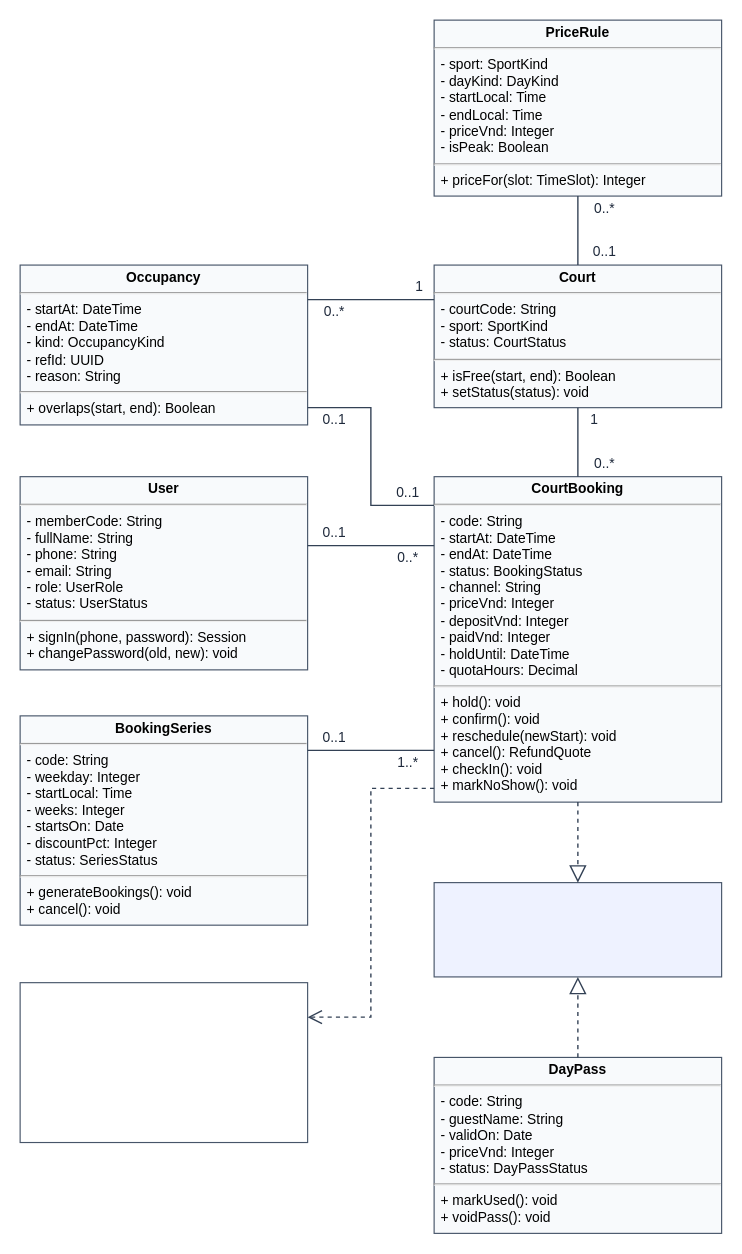
This 742x1254 diagram has some shape labels left out. Here are the shapes that lost their labels. From the top down, the centre of each, then its label:
At [577,929]: "«interface» Payable + amountDue(): Integer + settle(payment: Payment): void".
At [163,1062]: "«enumeration» BookingStatus hold confirmed in_use completed cancelled no_show".
